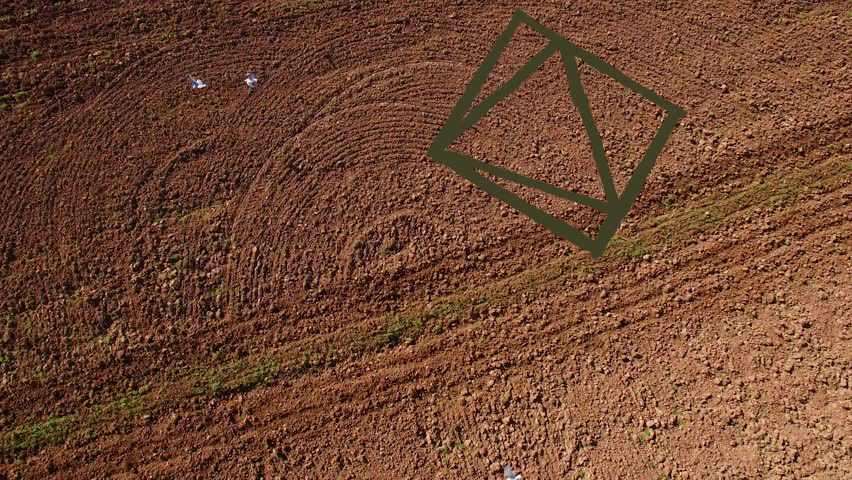marker: (424, 6, 695, 267)
